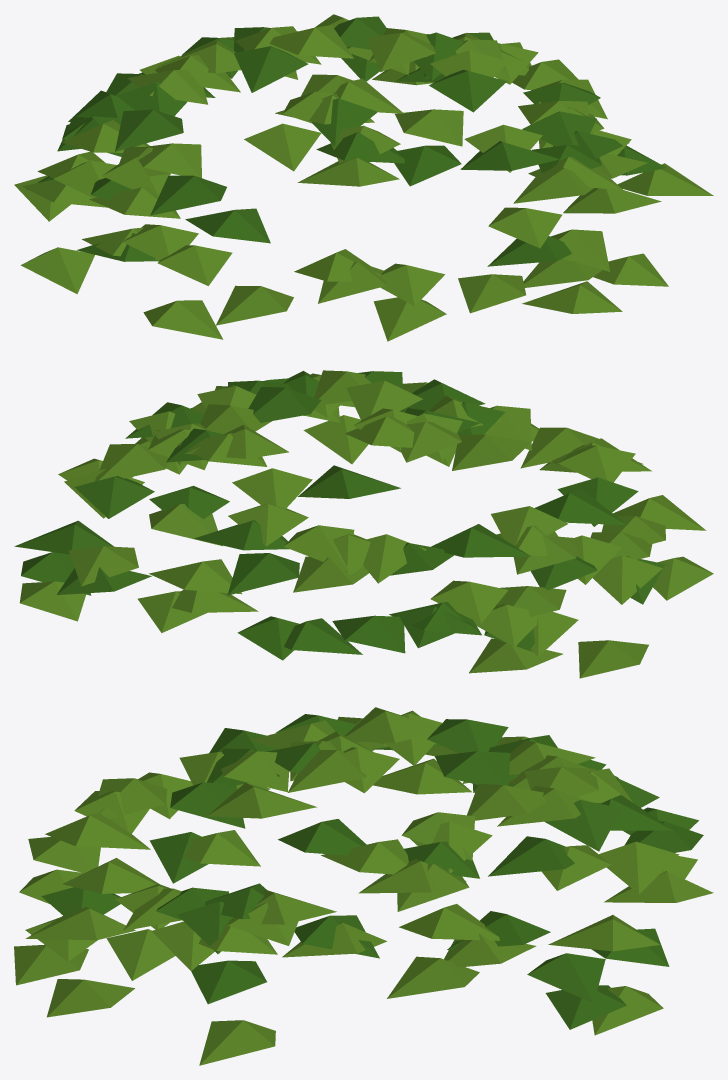
Rendered from bed_shrub_2.obj.
3 views of the same model, one above another, from view 1: azimuth 30°, elevation 25°; view 2: azimuth 150°, elevation 25°; view 3: azimuth 270°, elevation 25° (orthographic). The views are drawn at different scales.
Visible parts, largest first — view 1: bed_shrub_2; view 2: bed_shrub_2; view 3: bed_shrub_2.
Boxes of the visible parts, x1,y1,x2,y2 form: bed_shrub_2: (14,14,713,341); bed_shrub_2: (14,370,713,678); bed_shrub_2: (14,707,713,1065).
Size of the model in its own units: 3.41 by 0.8786 by 3.23.
